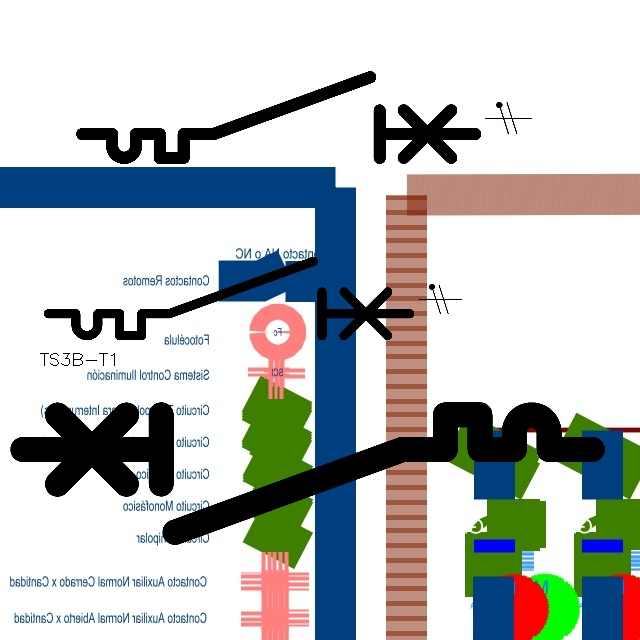interruptor_termomagnetico: (8, 400, 607, 546), (72, 67, 485, 168), (39, 252, 419, 345)
